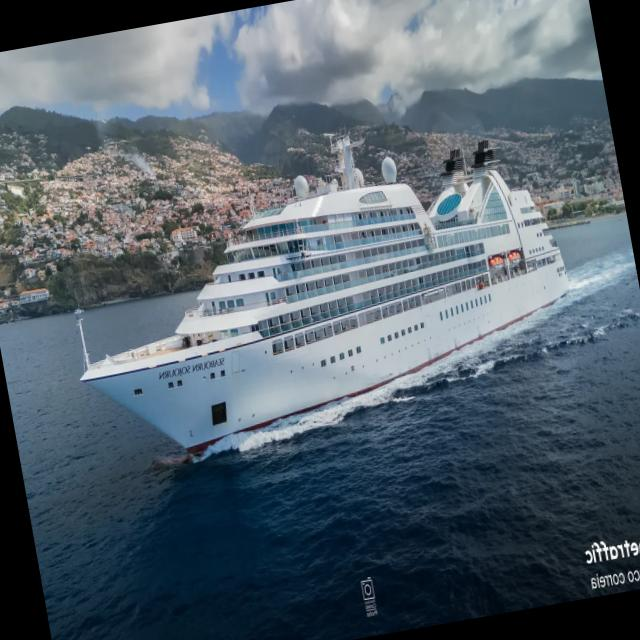Cruise: (78, 134, 568, 454)
